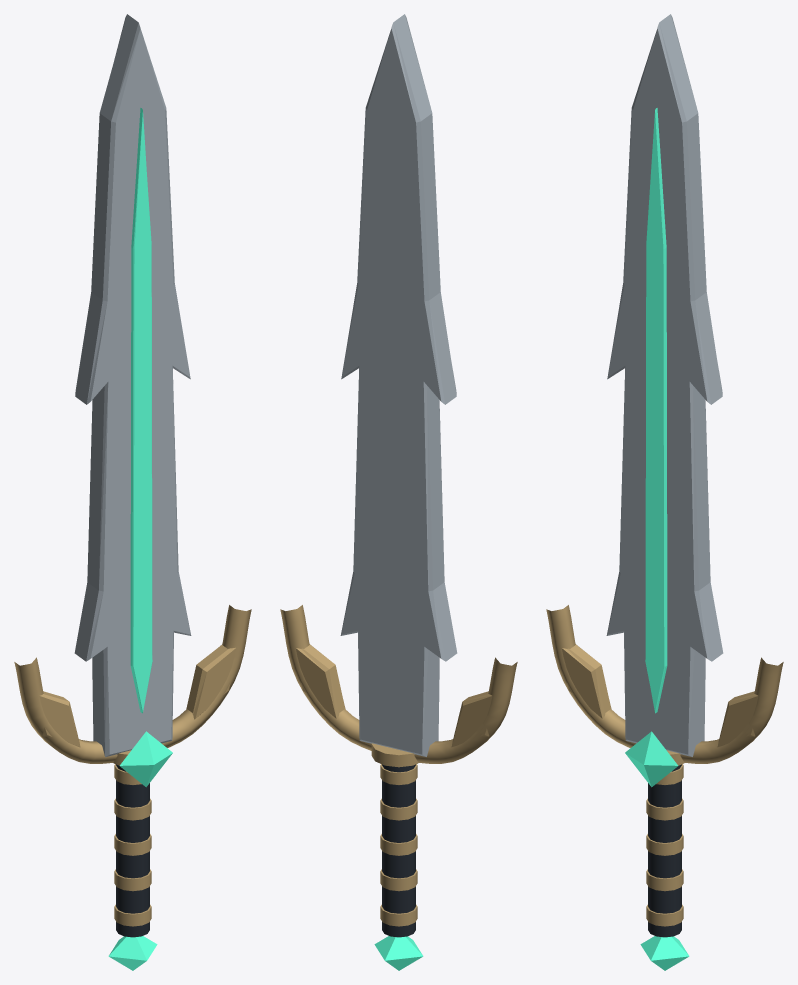
Rendered from universal-high.glb.
3 renders of one model, left to right at view 1: azimuth 30°, elevation 25°; view 2: azimuth 150°, elevation 25°; view 3: azimuth 330°, elevation 25°, orthographic.
Visible parts, largest first — view 1: Grovekeeper Blade; view 2: Grovekeeper Blade; view 3: Grovekeeper Blade.
Boxes of the visible parts, box(x1,y1,x2,y2) form: Grovekeeper Blade: box(14, 14, 251, 970); Grovekeeper Blade: box(280, 14, 517, 970); Grovekeeper Blade: box(546, 14, 783, 970).
Bounding box in the file's own units: 0.3018 × 1.19 × 0.0795.
